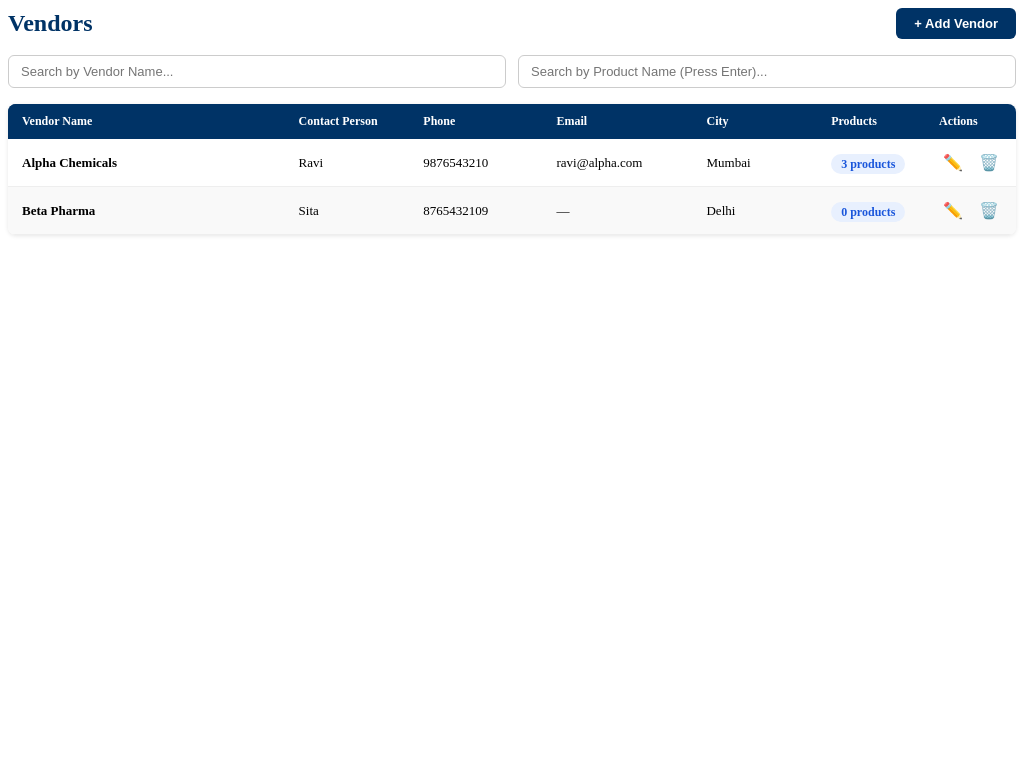
Test case: VendorMaster — Add Vendor modal › opens modal on Add Vendor click
The image size is (1024, 768).
Step 1. Click the button "+ Add Vendor" → (956, 24), box [896,8,1016,39]
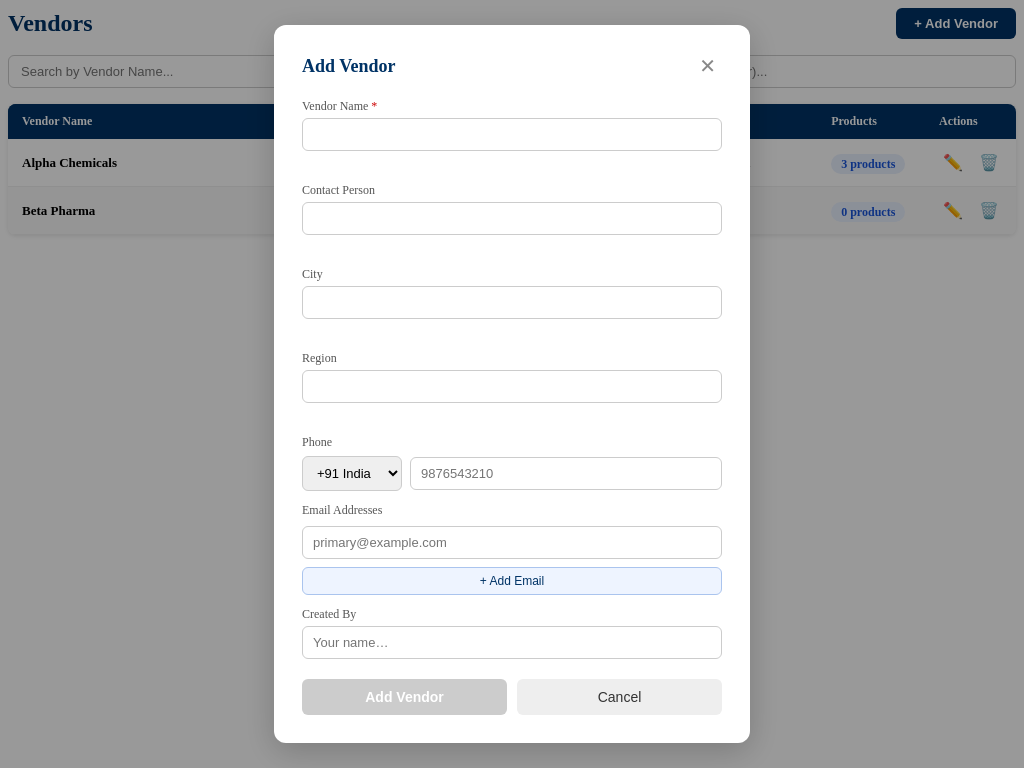
Now the heading "Add Vendor" is shown, box [302,56,396,76]
